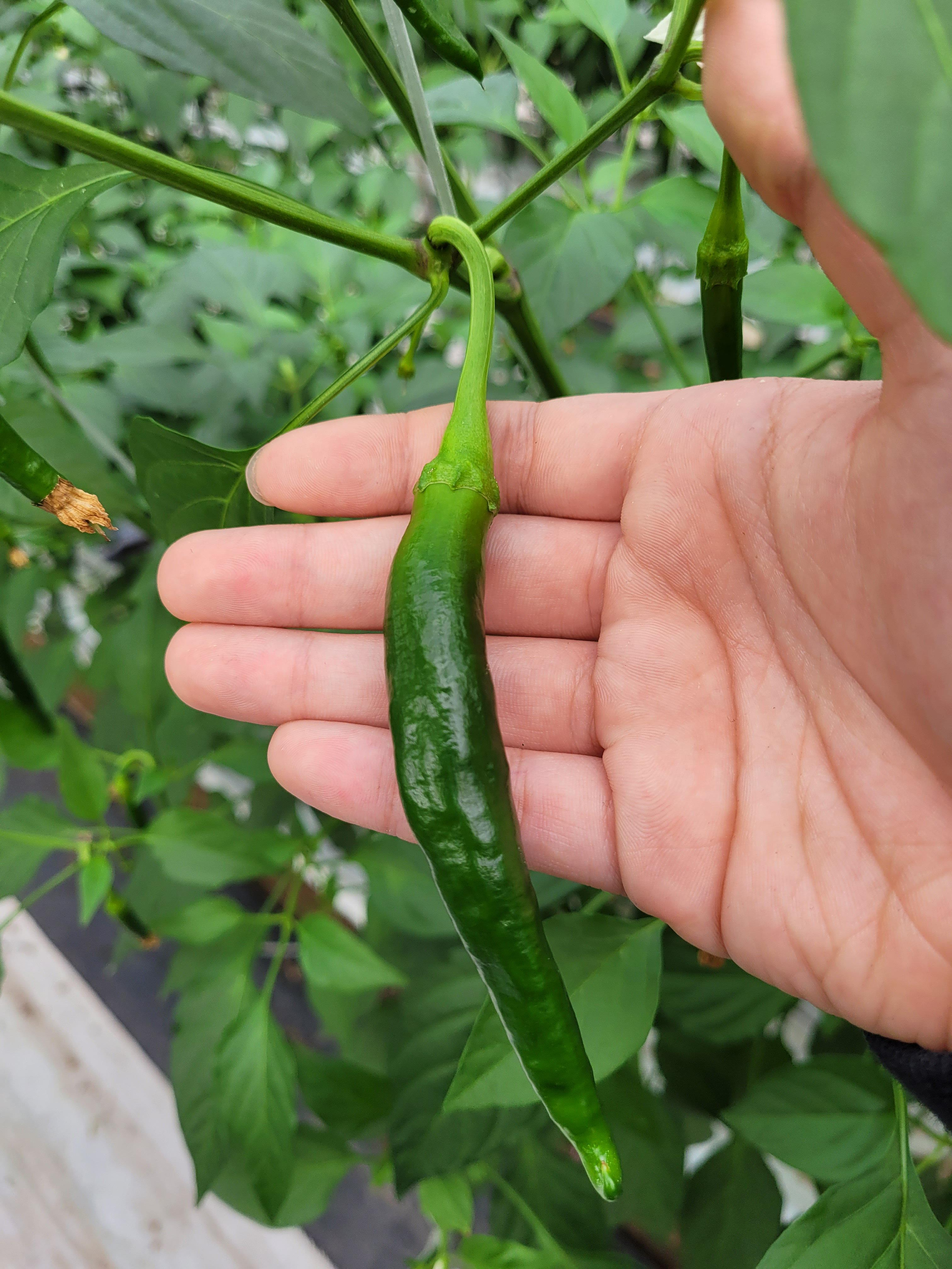Buah Cabai Sehat: (379, 437, 627, 1206)
